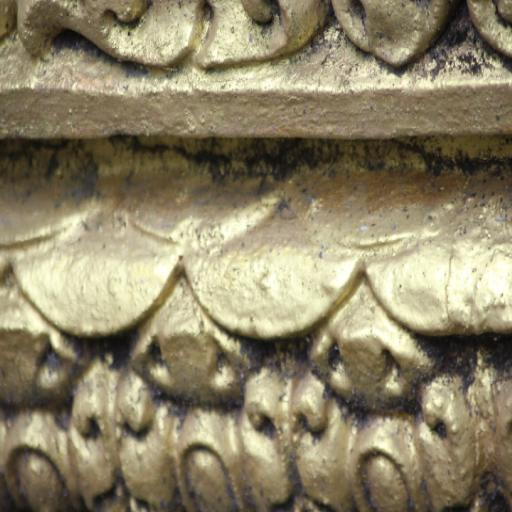la: (292, 271, 473, 512), (123, 269, 295, 512), (0, 258, 127, 512)
